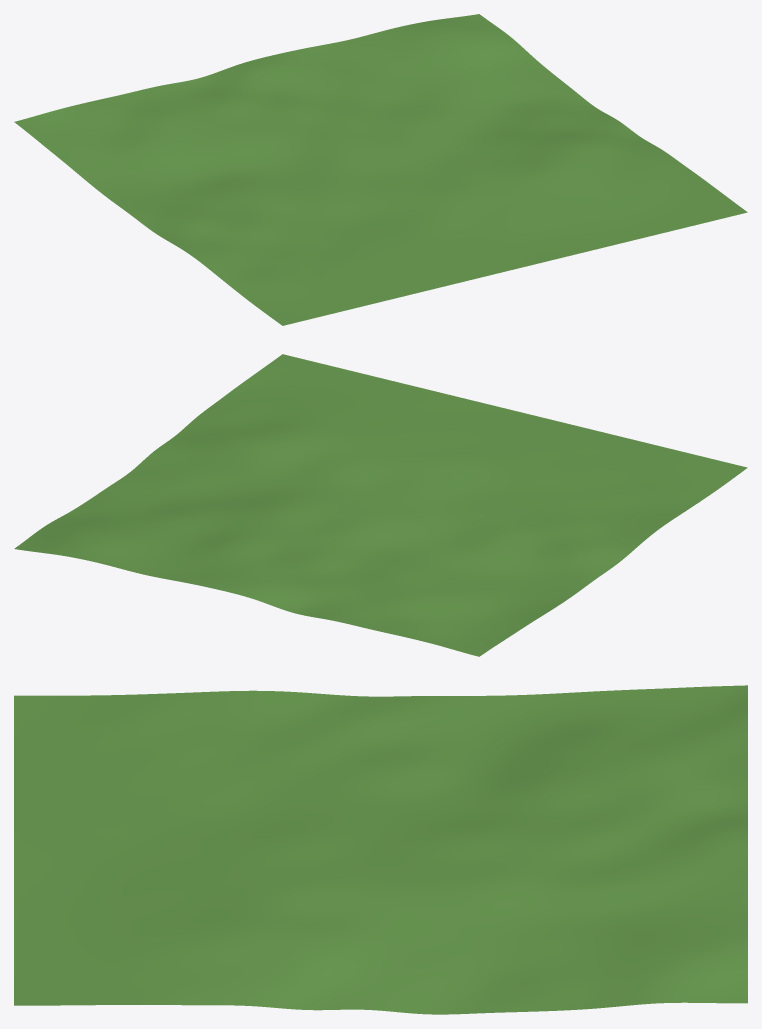
The model's file is SM_Terrain_06_07.fbx.
The picture shows the model from 3 angles, top to bottom: view 1: azimuth 30°, elevation 25°; view 2: azimuth 150°, elevation 25°; view 3: azimuth 270°, elevation 25°; orthographic projection. The views are drawn at different scales.
Parts seen in each view (by area): view 1: SM_Terrain_06_07; view 2: SM_Terrain_06_07; view 3: SM_Terrain_06_07.
Boxes of the visible parts, x1,y1,x2,y2 form: SM_Terrain_06_07: (14, 14, 747, 325); SM_Terrain_06_07: (14, 354, 747, 656); SM_Terrain_06_07: (14, 685, 747, 1014).
Bounding box in the file's own units: 384 × 14.05 × 384.
